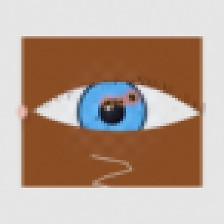foreign_body_visible: (114, 83, 150, 112)
